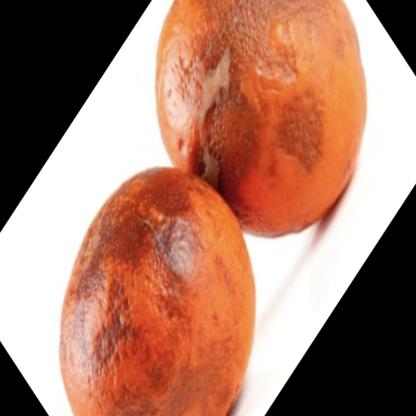rotten: (62, 1, 366, 416)
